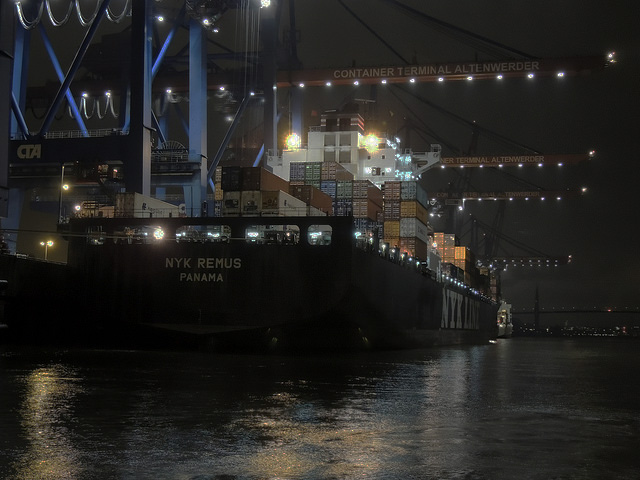container_ship: (75, 113, 504, 356)
